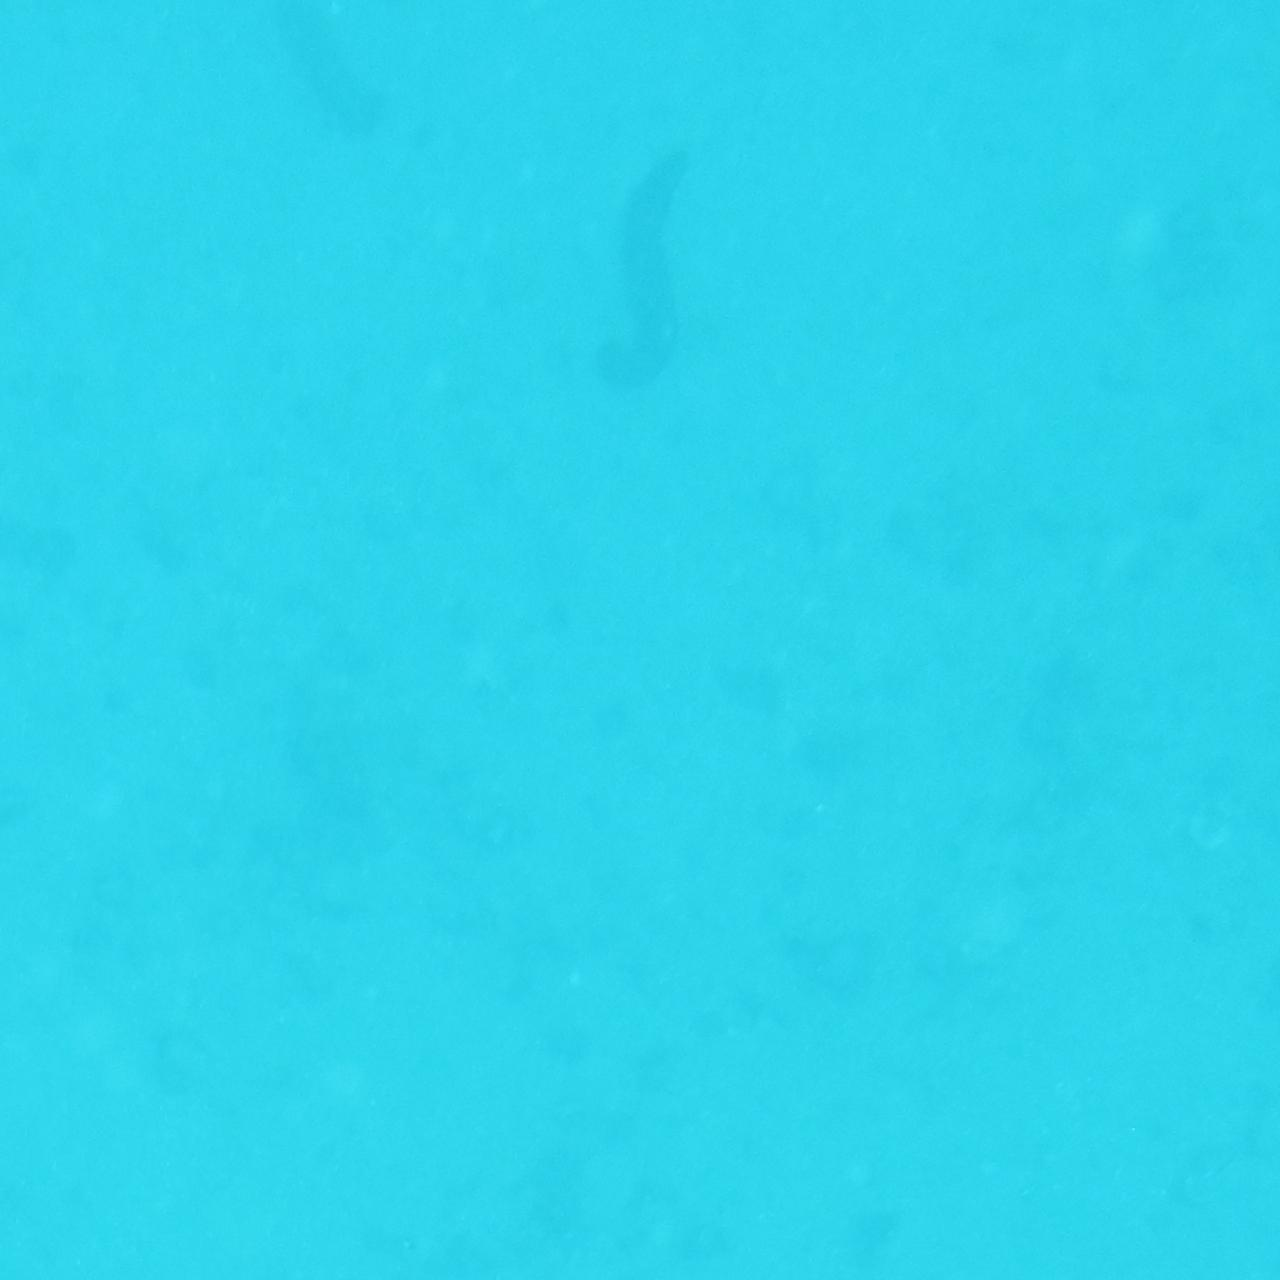Holothuria tubulosa: (579, 132, 701, 420)
